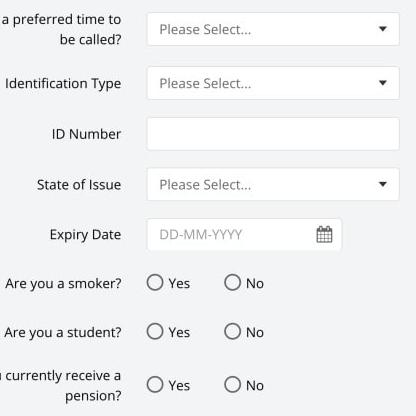field: (143, 117, 402, 154), (144, 216, 342, 254)
